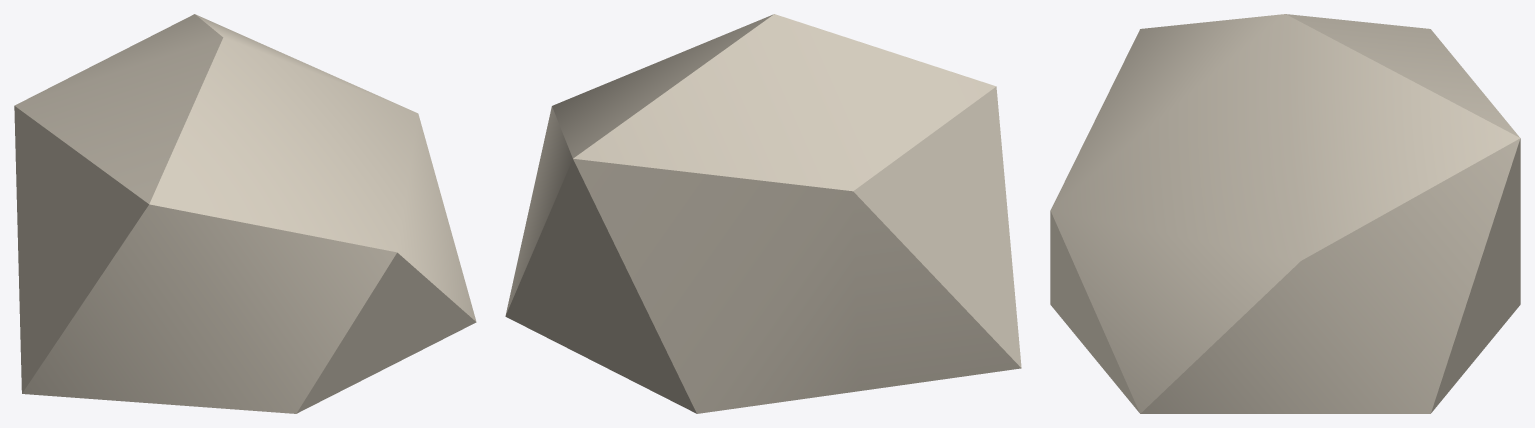
Rendered from cailloux_1.fbx.
The picture shows the model from 3 angles, left to right: view 1: azimuth 30°, elevation 25°; view 2: azimuth 150°, elevation 25°; view 3: azimuth 270°, elevation 25°; orthographic projection. The views are drawn at different scales.
Visible parts, largest first — view 1: cailloux_1; view 2: cailloux_1; view 3: cailloux_1.
Boxes of the visible parts, box(x1,y1,x2,y2) form: cailloux_1: box(14, 14, 476, 413); cailloux_1: box(505, 14, 1021, 413); cailloux_1: box(1050, 14, 1520, 413).
Size of the model in its own units: 189 by 126 by 170.
